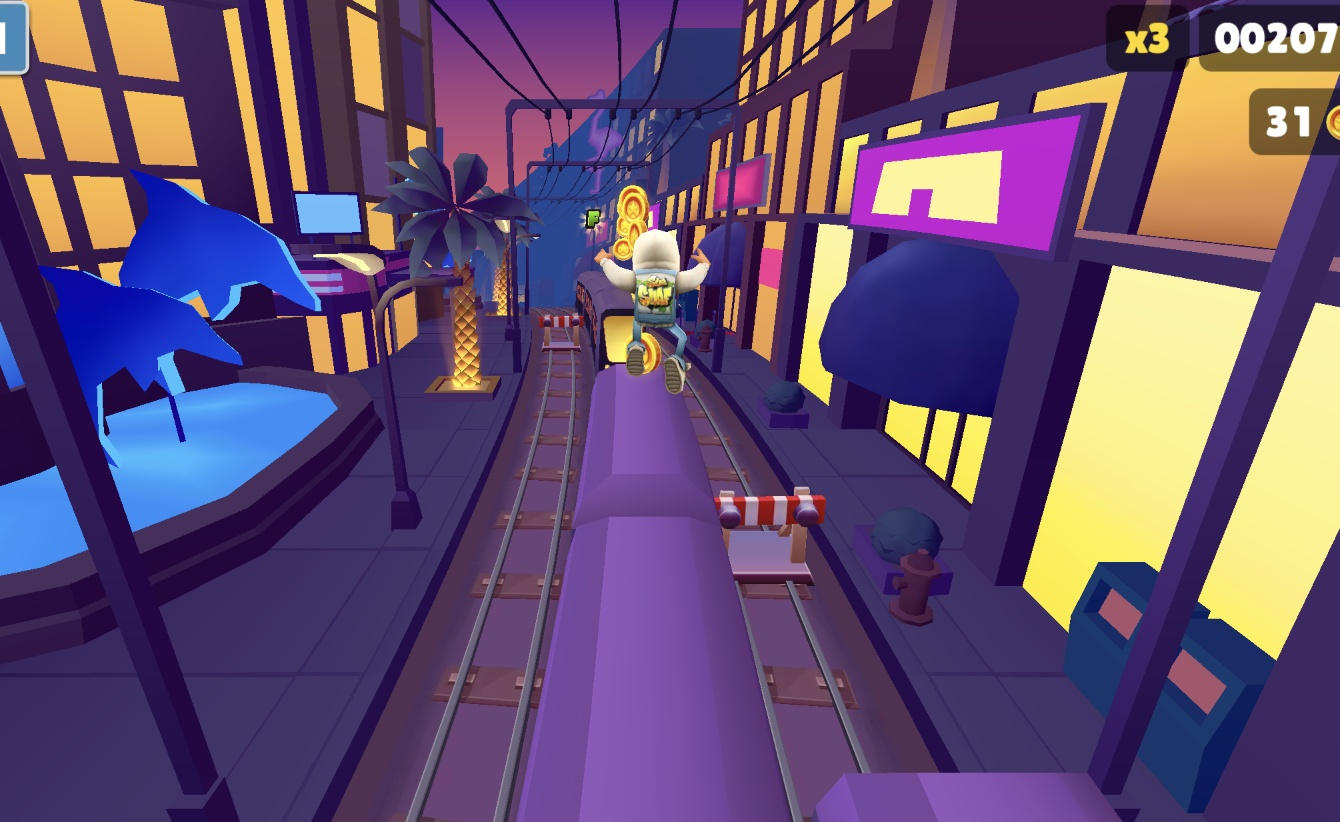ground_barrier: (721, 495, 828, 588), (537, 311, 582, 352)
train: (504, 360, 797, 822), (787, 765, 1141, 822), (574, 262, 640, 369)
